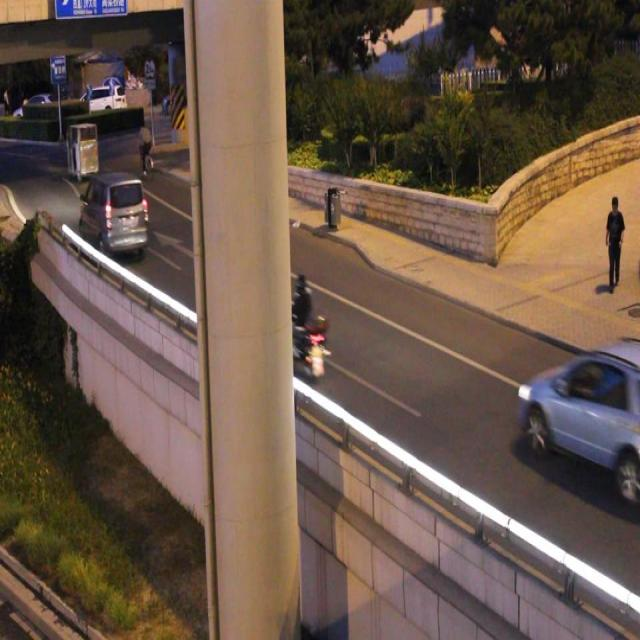car: (517, 347, 640, 477), (80, 170, 147, 252)
